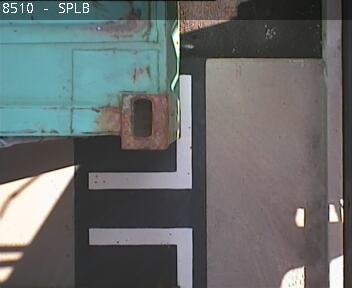groundmarker_1: (89, 74, 191, 288)
